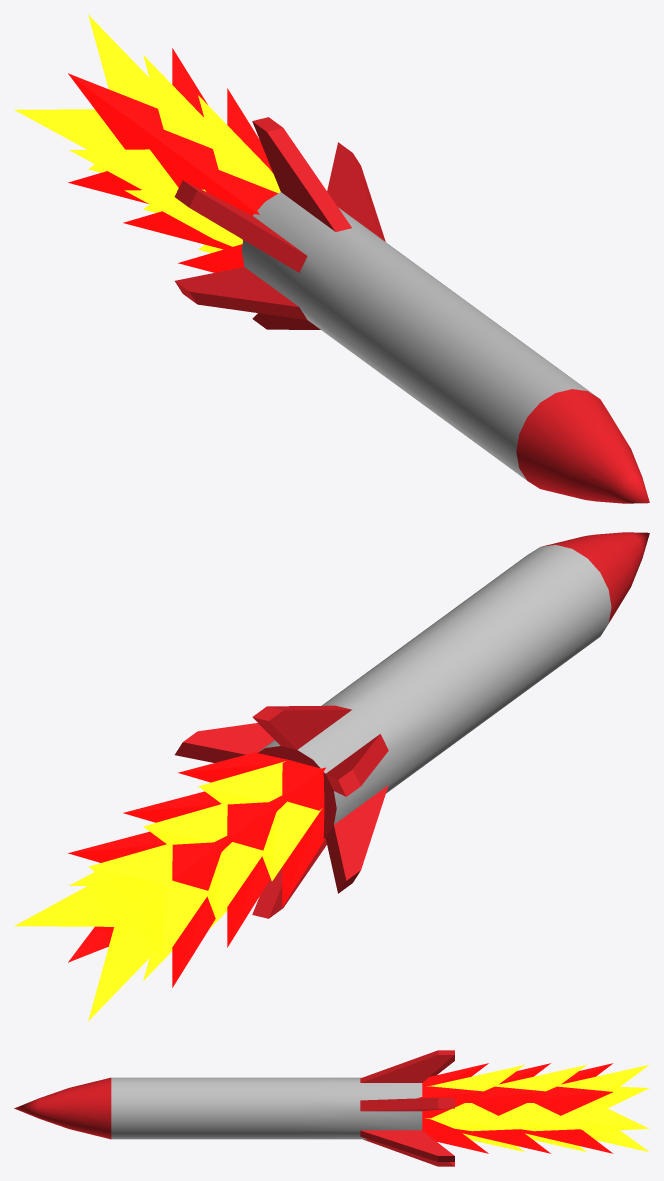
The picture shows the model from 3 angles, top to bottom: view 1: azimuth 30°, elevation 25°; view 2: azimuth 150°, elevation 25°; view 3: azimuth 270°, elevation 25°; orthographic projection. The views are drawn at different scales.
Visible parts, largest first — view 1: 導彈, 火焰026, 火焰025, 火焰027, 火焰028, 火焰024, 火焰023; view 2: 導彈, 火焰025, 火焰024, 火焰026, 火焰027, 火焰023, 火焰028; view 3: 導彈, 火焰025, 火焰028, 火焰027, 火焰024, 火焰026, 火焰023.
Boxes of the visible parts, bbox=[...] form: 導彈: bbox=[174, 117, 649, 503]; 火焰026: bbox=[123, 88, 273, 249]; 火焰025: bbox=[14, 14, 162, 172]; 火焰027: bbox=[69, 55, 217, 212]; 火焰028: bbox=[124, 95, 280, 253]; 火焰024: bbox=[68, 48, 207, 203]; 火焰023: bbox=[178, 154, 277, 272]; 導彈: bbox=[175, 532, 649, 918]; 火焰025: bbox=[14, 844, 207, 1021]; 火焰024: bbox=[68, 831, 231, 987]; 火焰026: bbox=[123, 791, 286, 947]; 火焰027: bbox=[69, 804, 262, 980]; 火焰023: bbox=[178, 751, 325, 907]; 火焰028: bbox=[198, 761, 322, 929]; 導彈: bbox=[14, 1050, 454, 1166]; 火焰025: bbox=[557, 1065, 649, 1151]; 火焰028: bbox=[425, 1065, 524, 1151]; 火焰027: bbox=[495, 1064, 587, 1152]; 火焰024: bbox=[518, 1063, 613, 1153]; 火焰026: bbox=[455, 1063, 550, 1153]; 火焰023: bbox=[418, 1063, 488, 1153].
Bounding box in the file's own units: 18.06 × 19.85 × 102.
Materials: 3 (1 with a texture image).
